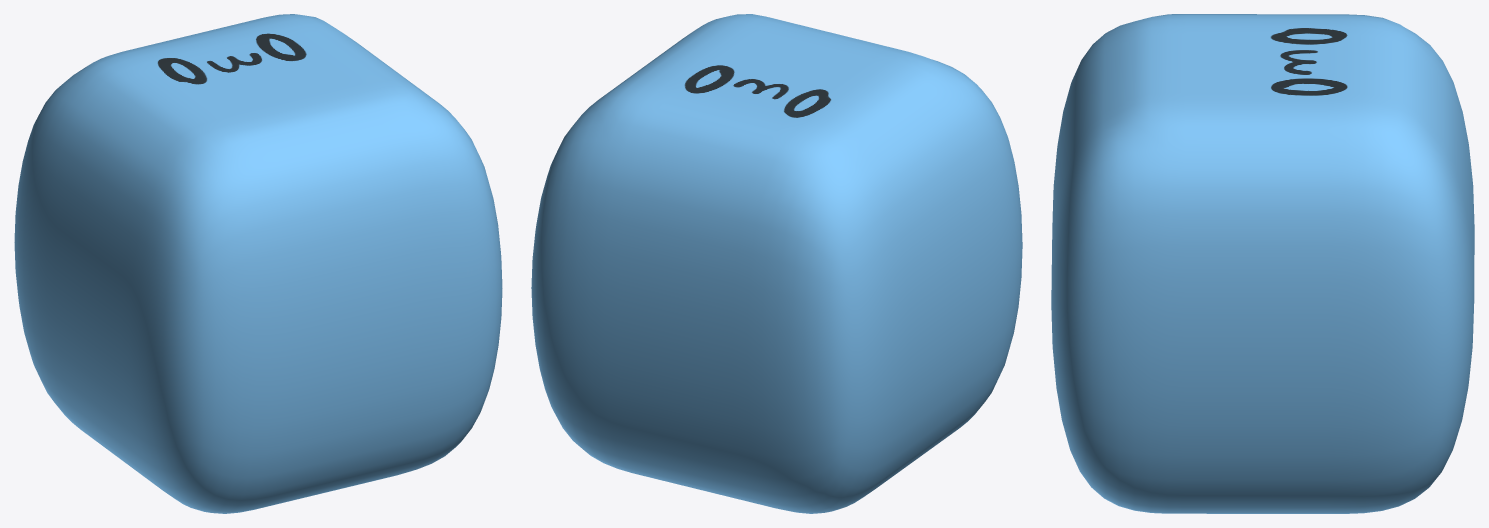
The model's file is supoimu.fbx.
The picture shows the model from 3 angles, left to right: view 1: azimuth 30°, elevation 25°; view 2: azimuth 150°, elevation 25°; view 3: azimuth 270°, elevation 25°; orthographic projection. The views are drawn at different scales.
Visible parts, largest first — view 1: supoimu; view 2: supoimu; view 3: supoimu.
Part boxes in pixels (bbox=[...]): supoimu: bbox=[14, 14, 502, 513]; supoimu: bbox=[531, 14, 1022, 513]; supoimu: bbox=[1051, 14, 1474, 513].
Bounding box in the file's own units: 0.9746 × 1.01 × 0.9751.
